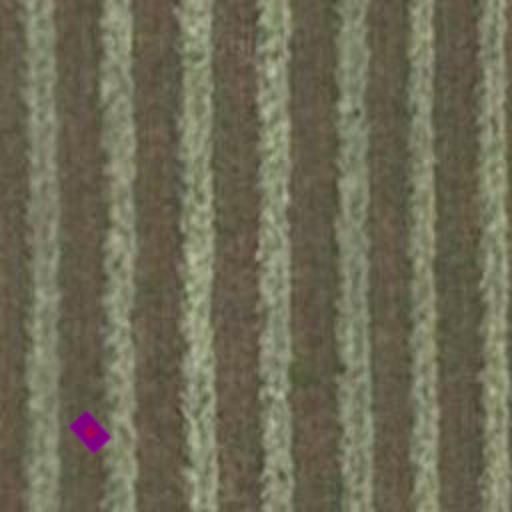rectangle: (62, 404, 118, 460)
